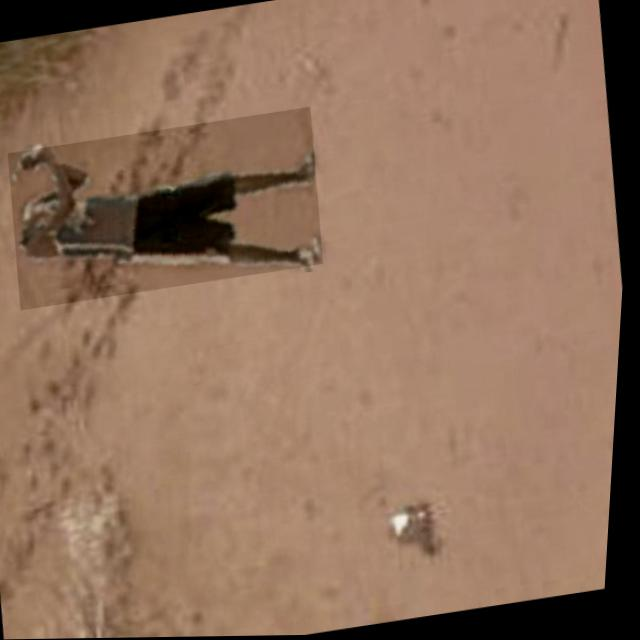Person in Rubble: (3, 106, 334, 310)
